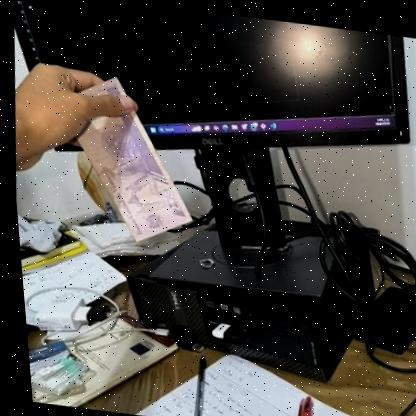vef_back: (57, 70, 200, 246)
